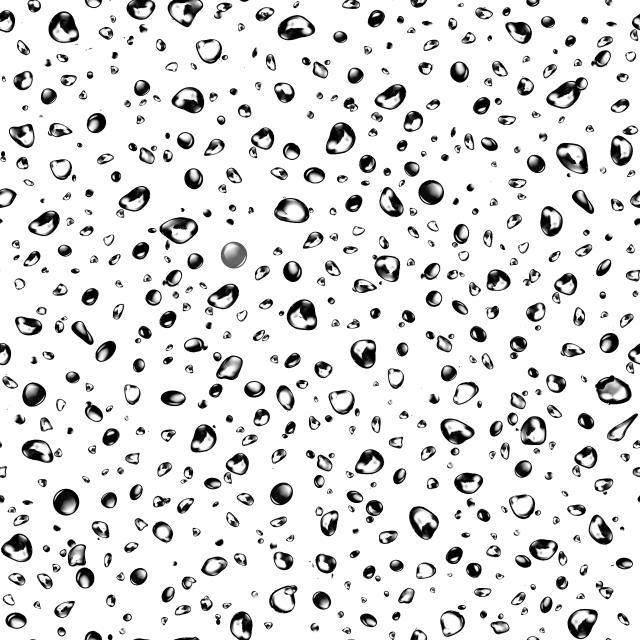raindrop: (274, 291, 326, 337), (314, 114, 364, 158), (588, 368, 640, 410), (539, 72, 584, 120), (44, 7, 90, 53), (8, 430, 60, 470), (150, 517, 196, 561), (500, 484, 548, 526), (408, 500, 450, 548), (582, 507, 621, 557), (157, 207, 207, 245), (262, 572, 300, 622), (514, 412, 557, 456), (114, 177, 157, 220), (270, 190, 316, 230), (408, 172, 456, 210), (550, 138, 593, 180), (434, 412, 478, 453), (192, 546, 240, 582), (166, 77, 207, 119), (534, 200, 575, 242), (562, 601, 606, 640), (188, 28, 228, 70), (368, 246, 408, 287), (78, 102, 118, 142), (370, 75, 412, 113), (350, 442, 392, 480), (526, 530, 568, 568), (202, 277, 246, 313), (274, 13, 319, 48), (0, 524, 38, 565), (2, 115, 44, 152), (10, 306, 54, 340), (240, 121, 286, 153), (444, 376, 486, 411), (388, 105, 432, 138), (27, 204, 70, 237), (605, 130, 640, 170), (48, 482, 83, 522), (183, 421, 217, 462), (448, 466, 490, 499), (216, 234, 253, 271), (534, 364, 572, 400), (501, 17, 542, 50), (216, 348, 253, 384), (60, 316, 100, 349), (165, 0, 210, 29), (348, 334, 382, 372), (325, 385, 364, 418), (120, 0, 162, 30), (224, 603, 258, 640), (272, 378, 302, 419), (46, 150, 80, 186), (377, 185, 410, 222), (296, 162, 334, 194), (572, 439, 604, 477), (483, 264, 518, 298), (6, 64, 40, 98), (266, 74, 300, 108), (273, 257, 309, 289), (122, 560, 157, 592), (84, 335, 120, 366), (434, 609, 470, 640), (66, 562, 99, 595), (444, 220, 480, 250), (310, 546, 340, 582), (317, 506, 344, 546), (200, 133, 237, 162), (442, 56, 475, 88), (592, 325, 624, 358), (270, 544, 302, 577), (58, 536, 90, 568), (268, 482, 305, 509), (176, 162, 207, 194), (275, 138, 308, 168), (156, 384, 191, 412), (554, 268, 584, 300), (76, 281, 105, 314), (78, 398, 112, 426), (150, 302, 181, 332), (19, 376, 49, 406), (468, 91, 498, 120), (413, 555, 442, 585), (0, 0, 22, 35), (176, 126, 203, 154), (338, 62, 367, 88), (139, 282, 167, 308), (0, 182, 21, 214), (556, 339, 586, 361), (345, 186, 368, 214), (308, 590, 334, 614), (178, 332, 206, 354)
